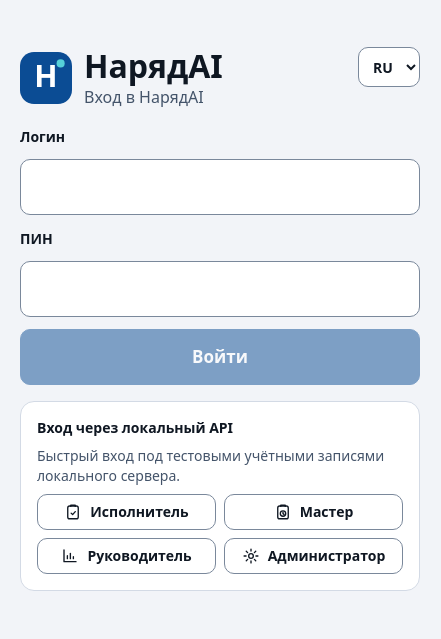
LoginPage form › shows friendly error on 401
Type "bad" into the field labelled "Логин" at (220, 187), box [20,159,420,215]
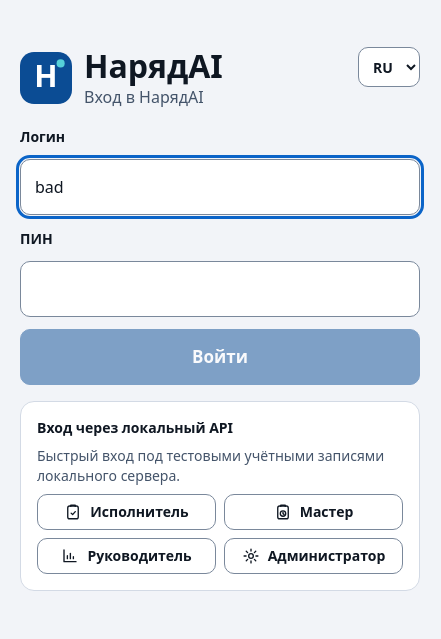
Type "0000" into the password field labelled "ПИН" at (220, 289), box [20,261,420,317]
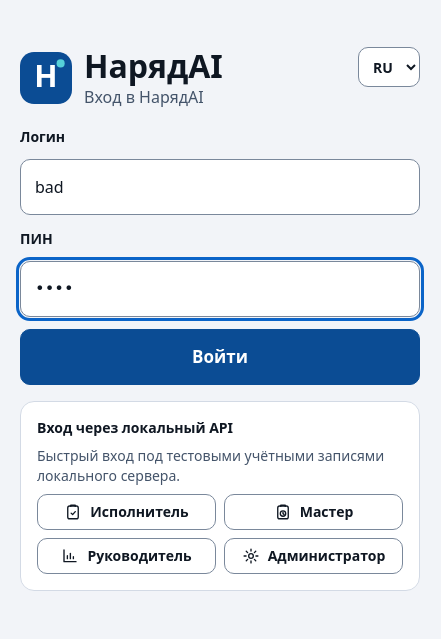
Click the button "Войти" at (220, 357), box [20,329,420,385]
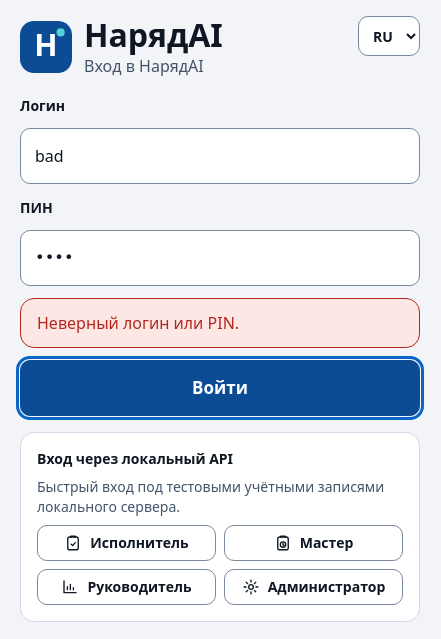
Check: the message "Неверный логин или PIN." is shown, box [20,298,420,348]
Check: the message shows "Неверный логин", box [37,312,239,334]
